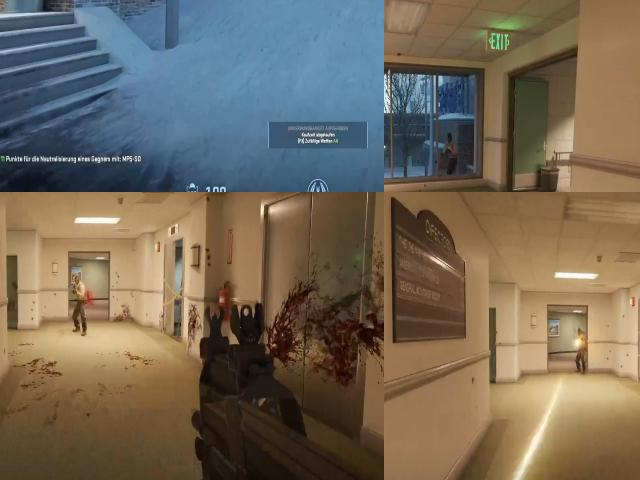T: (71, 267, 87, 317), (444, 130, 458, 170), (444, 129, 454, 145)
T-Head: (577, 329, 587, 368), (72, 271, 82, 289), (576, 328, 584, 342)
